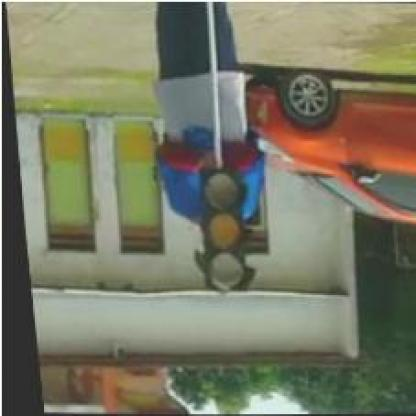yellow: (188, 169, 252, 293)
